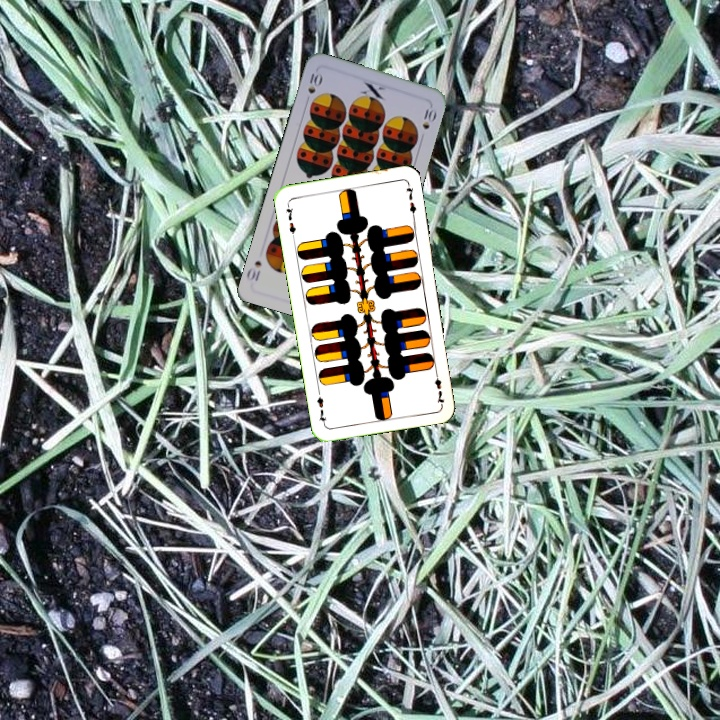E7: (430, 366, 447, 407), (281, 200, 298, 240)
S10: (301, 69, 325, 106)
